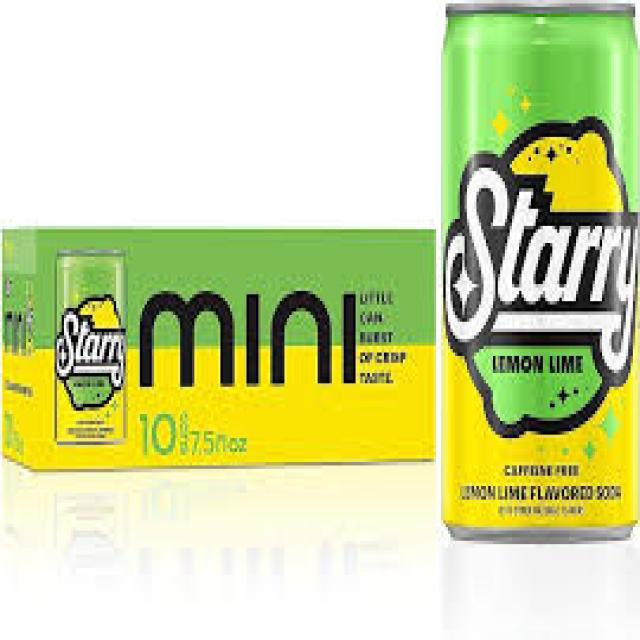Cans: (434, 3, 640, 551)
